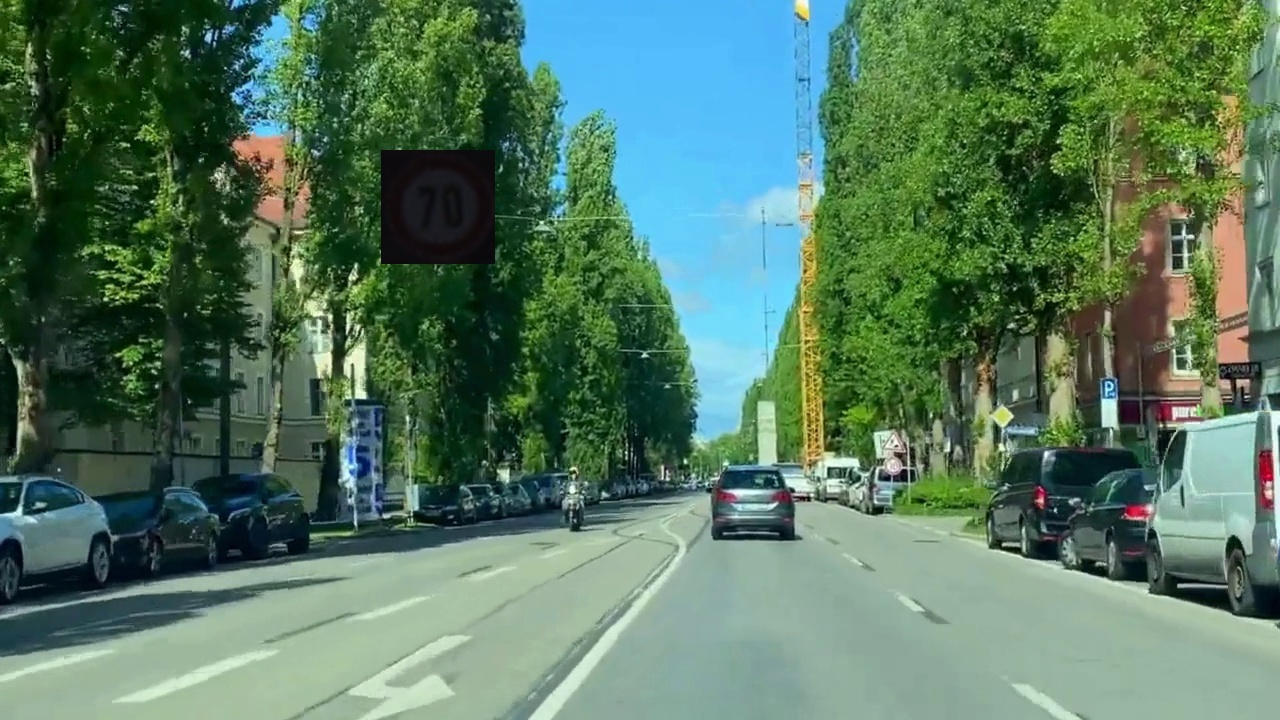Speed 70: (381, 150, 495, 264)
